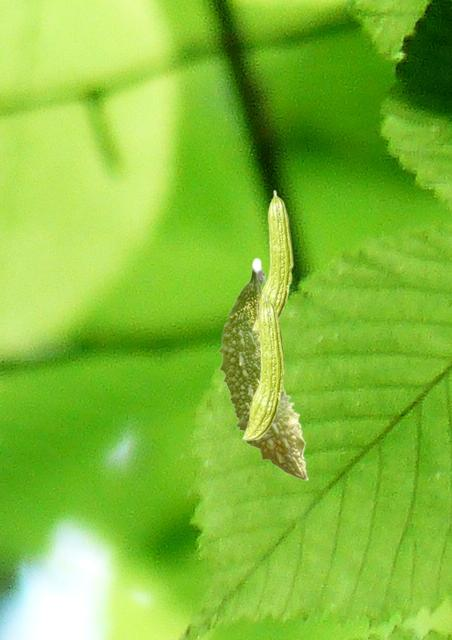ampalaya: (216, 256, 311, 481), (240, 294, 285, 442), (251, 189, 294, 332)
